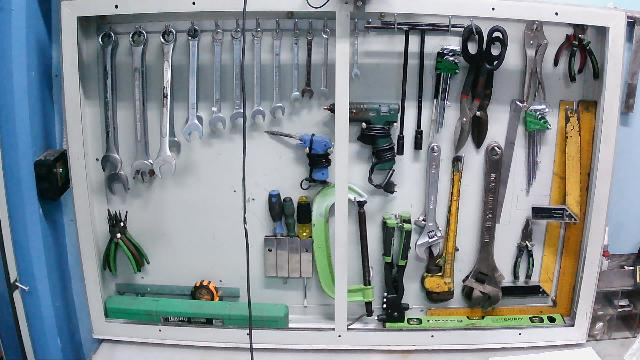kunci_l_bintang: (523, 105, 554, 196)
